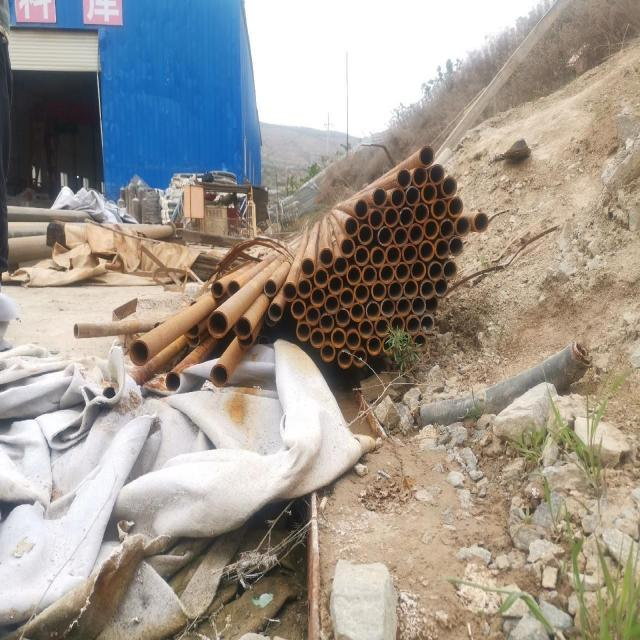pipe: (206, 309, 228, 338), (128, 339, 148, 365), (209, 362, 229, 387), (232, 315, 252, 340), (164, 369, 182, 392), (404, 184, 421, 207), (419, 181, 437, 202), (440, 175, 458, 196), (371, 185, 387, 208), (101, 383, 117, 405), (411, 165, 427, 187), (361, 264, 377, 286), (418, 239, 434, 261), (392, 225, 408, 247), (422, 218, 438, 240), (237, 329, 253, 350), (208, 279, 224, 300), (299, 256, 315, 277), (312, 266, 328, 287), (339, 236, 355, 257), (389, 186, 405, 207), (418, 145, 434, 166), (357, 223, 373, 244), (353, 244, 369, 265), (433, 237, 449, 258), (472, 211, 488, 232), (383, 205, 399, 226), (413, 202, 429, 223), (374, 315, 389, 337), (448, 195, 463, 217), (281, 281, 297, 301), (296, 278, 312, 298), (318, 247, 334, 267), (290, 299, 306, 319), (304, 304, 320, 324), (309, 327, 325, 347), (332, 254, 348, 274), (319, 342, 335, 362), (344, 328, 360, 348), (395, 167, 411, 187), (428, 163, 444, 183), (348, 300, 364, 320), (365, 335, 381, 355), (370, 280, 386, 300), (378, 262, 394, 282), (394, 262, 410, 282), (409, 258, 425, 278), (401, 242, 417, 262), (448, 236, 464, 256), (377, 226, 393, 246), (454, 215, 470, 235), (431, 198, 447, 218), (295, 320, 310, 341), (398, 205, 413, 226), (398, 332, 412, 354), (181, 321, 200, 337), (266, 301, 282, 320), (327, 275, 343, 294), (343, 216, 359, 235), (353, 283, 369, 302), (432, 277, 448, 296), (324, 294, 339, 314), (410, 294, 425, 314), (402, 278, 417, 298), (442, 259, 457, 279), (408, 223, 423, 243), (331, 326, 345, 347), (354, 198, 368, 219), (369, 208, 383, 229), (346, 263, 360, 284), (390, 313, 404, 334), (420, 278, 434, 299), (440, 217, 454, 238), (309, 287, 325, 305), (339, 287, 353, 307), (358, 318, 372, 338), (412, 332, 426, 352), (396, 296, 410, 316), (388, 279, 402, 299), (428, 259, 442, 279), (386, 244, 400, 264), (352, 348, 367, 366), (423, 294, 438, 312), (262, 278, 276, 297), (319, 312, 333, 331), (337, 349, 351, 368), (382, 335, 396, 354), (406, 314, 420, 333), (420, 314, 434, 333), (366, 300, 380, 319), (380, 298, 394, 317), (370, 246, 384, 265), (226, 278, 240, 296), (334, 308, 348, 325), (186, 333, 200, 348), (257, 334, 271, 349), (264, 312, 277, 327), (70, 321, 80, 339), (186, 298, 197, 308)
